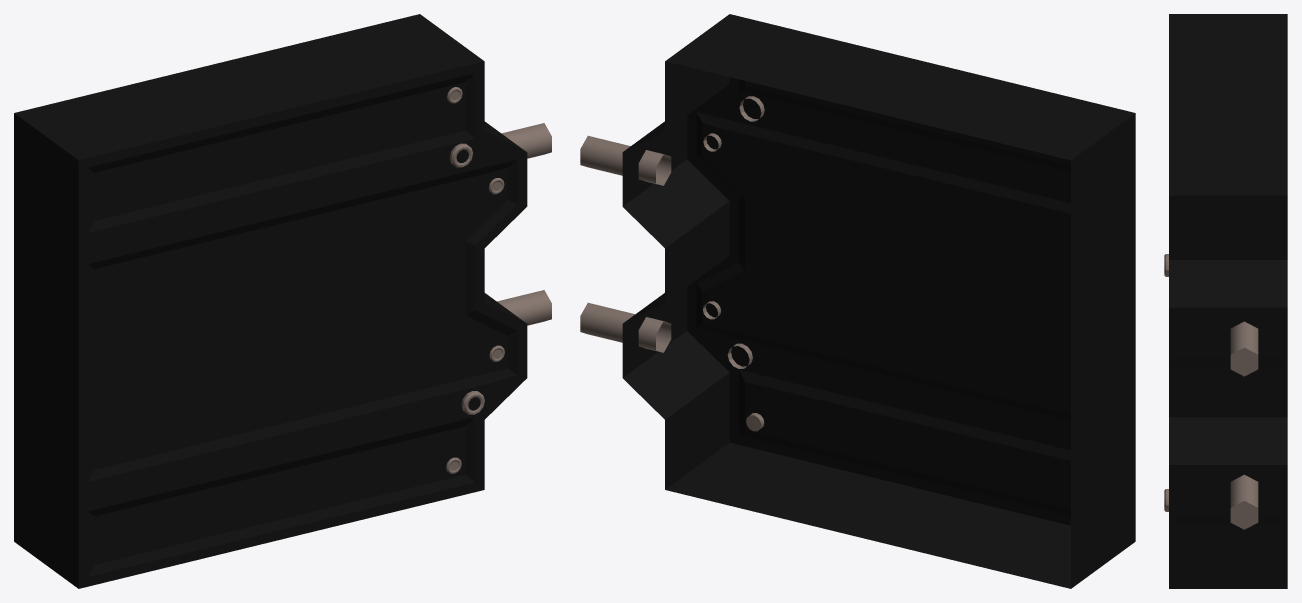
File: M_DoorL.FBX
3 views of the same model, side by side, from view 1: azimuth 30°, elevation 25°; view 2: azimuth 150°, elevation 25°; view 3: azimuth 270°, elevation 25° (orthographic). The views are drawn at different scales.
Parts seen in each view (by area): view 1: M_DoorL; view 2: M_DoorL; view 3: M_DoorL.
Boxes of the visible parts, x1,y1,x2,y2 form: M_DoorL: (14, 14, 551, 588); M_DoorL: (580, 14, 1135, 588); M_DoorL: (1164, 14, 1287, 588).
Bounding box in the file's own units: 132 × 106 × 30.28.
